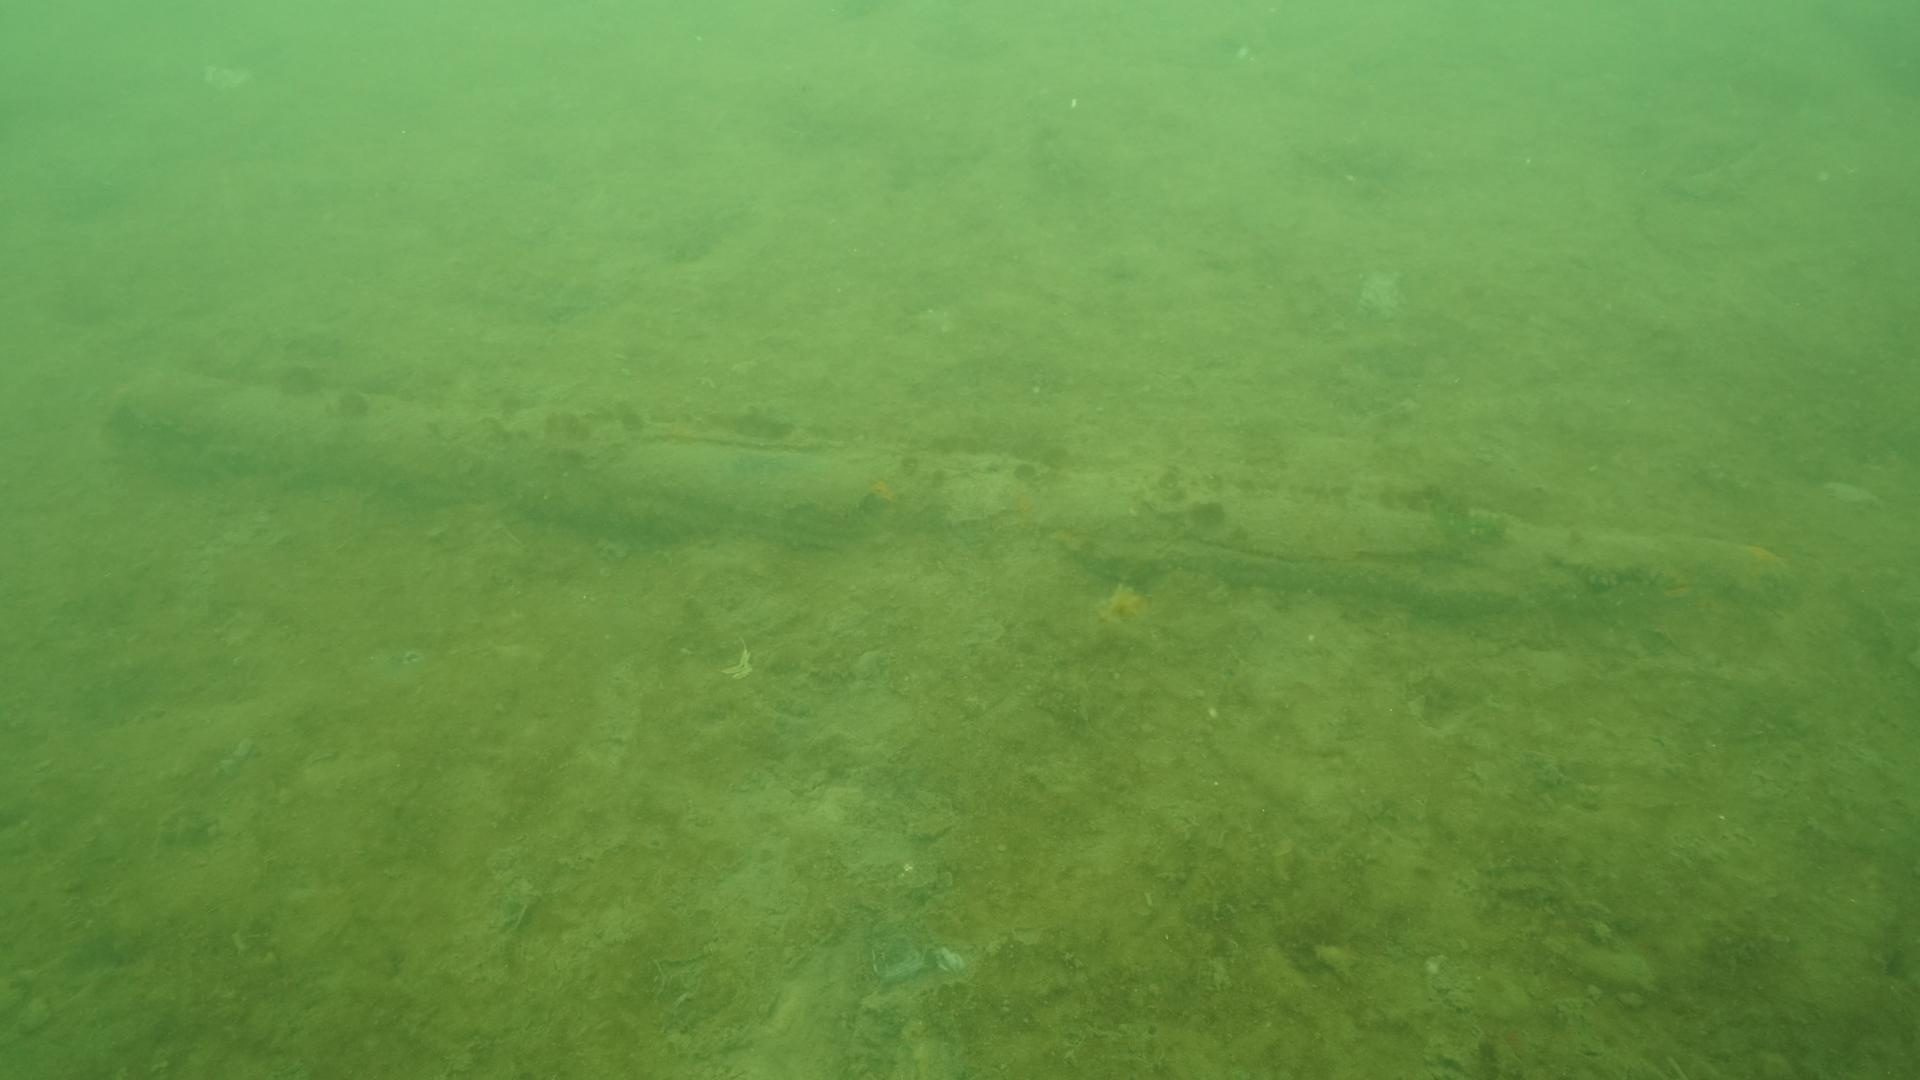wood: (98, 347, 1797, 618)
